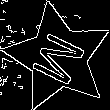M_SE: (25, 26, 91, 89)
